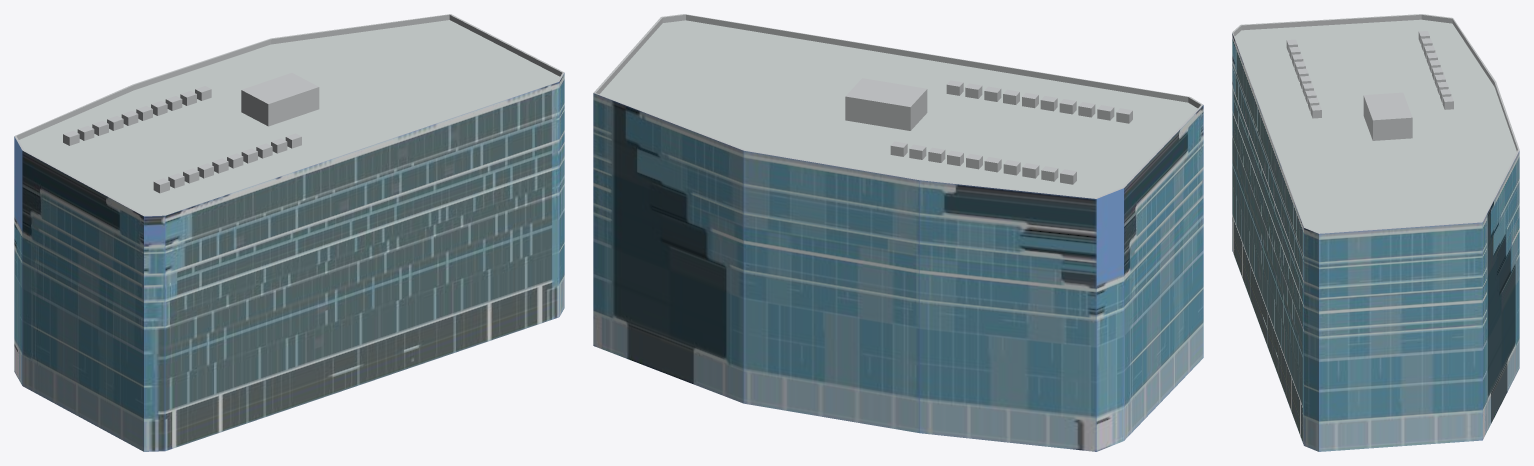
3 views of the same model, side by side, from view 1: azimuth 30°, elevation 25°; view 2: azimuth 150°, elevation 25°; view 3: azimuth 270°, elevation 25° (orthographic). The views are drawn at different scales.
Visible parts, largest first — view 1: 1424945039; view 2: 1424945039; view 3: 1424945039.
Boxes of the visible parts, box(x1,y1,x2,y2) form: 1424945039: box(14, 14, 564, 451); 1424945039: box(593, 14, 1203, 451); 1424945039: box(1232, 14, 1519, 451).
Size of the model in its own units: 77.63 by 38.5 by 42.91.
3 materials, 1 textured.
